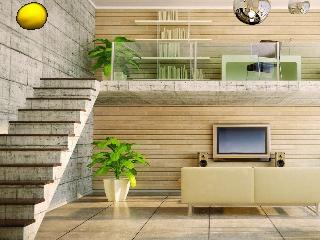lemon: (18, 4, 47, 30)
